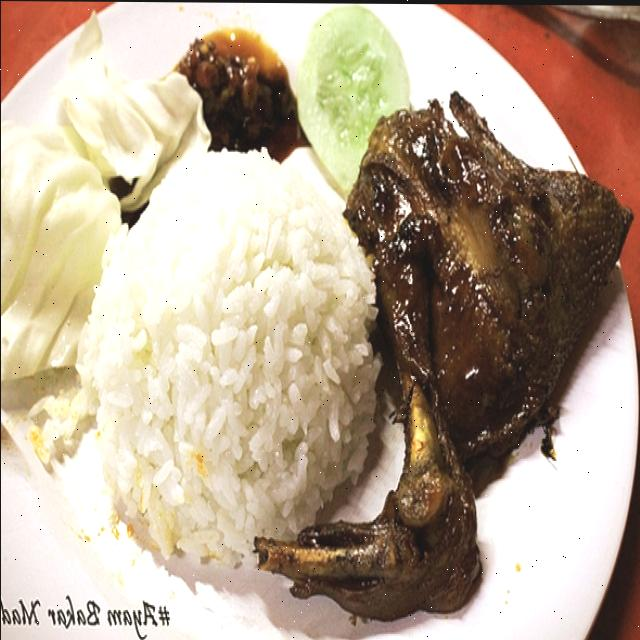鸡肉料理 含炸鸡: (0, 10, 620, 617)
